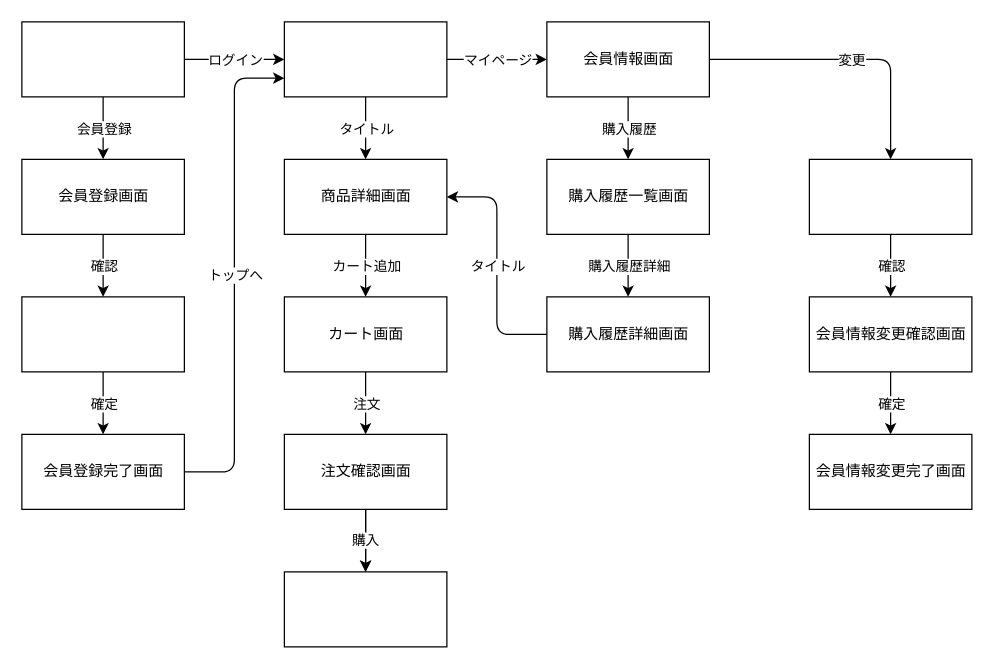
This 994x669 diagram has some shape labels left out. The shapes that lost their labels are listed below. From the top down, each one's box as (x1, y1, x2, y2) in pixels, then its label:
(21, 21, 184, 97): ログイン画面
(283, 21, 447, 97): 商品一覧画面
(808, 158, 972, 234): 会員情報変更画面
(21, 296, 184, 372): 会員登録確認画面
(283, 571, 447, 647): 購入完了画面
